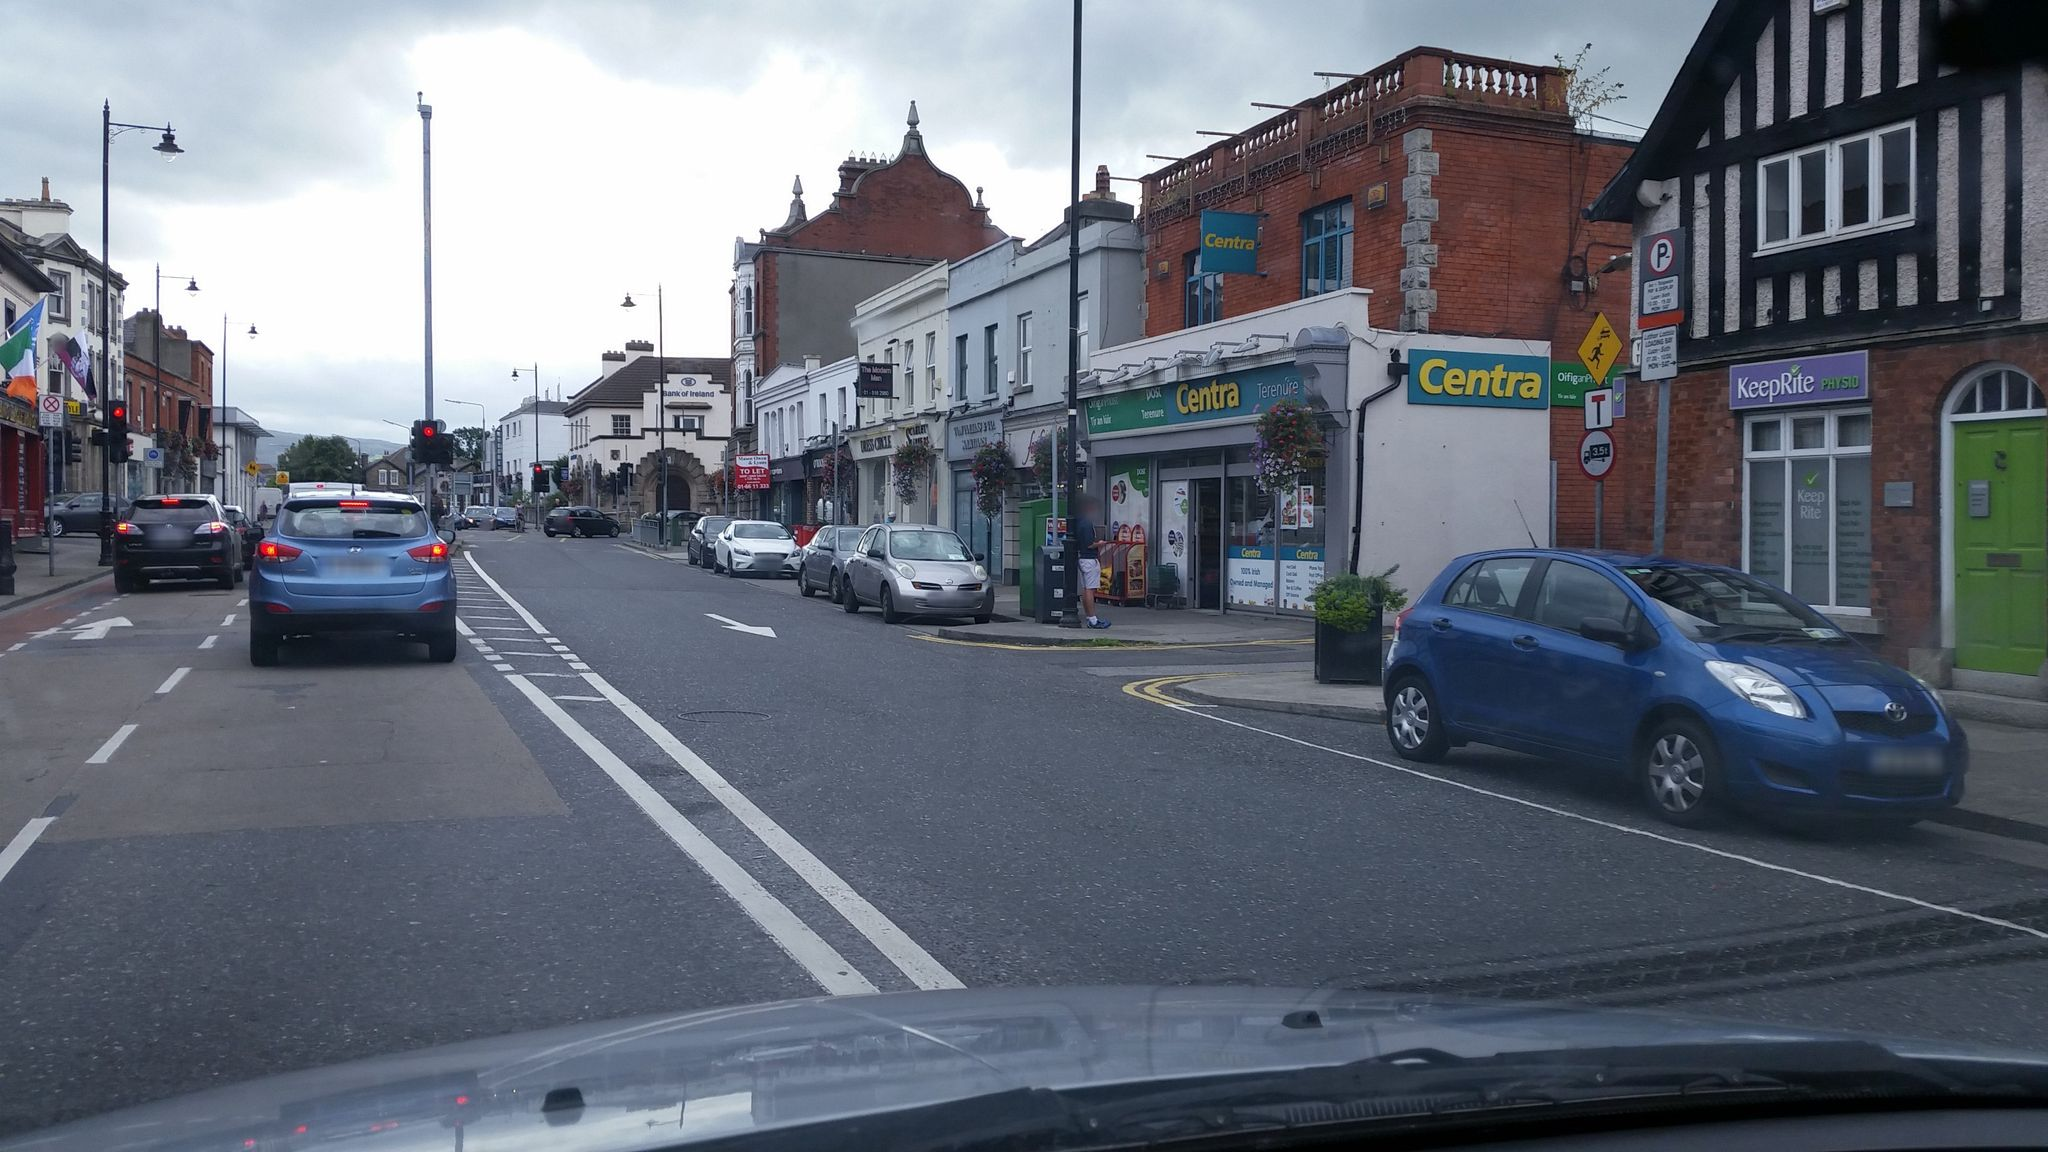property sign: (724, 442, 781, 491)
